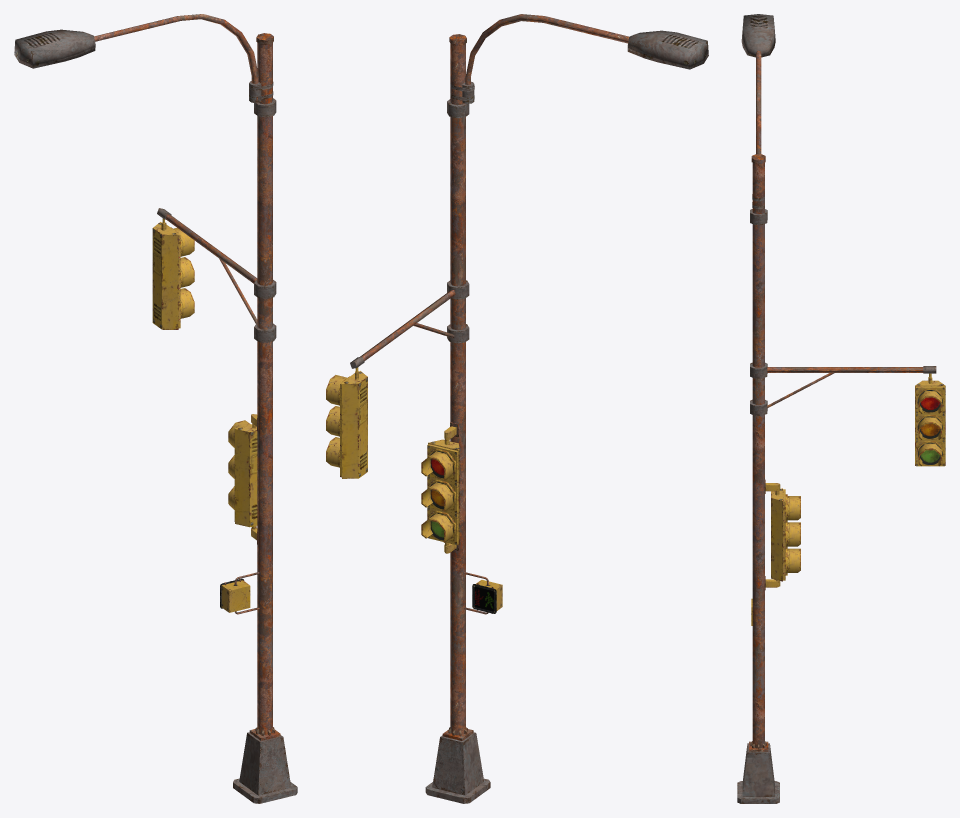
The model's file is Streetlight3_LOD1.fbx.
3 renders of one model, left to right at view 1: azimuth 30°, elevation 25°; view 2: azimuth 150°, elevation 25°; view 3: azimuth 270°, elevation 25°, orthographic. The views are drawn at different scales.
Parts seen in each view (by area): view 1: polySurface171; view 2: polySurface171; view 3: polySurface171.
Boxes of the visible parts, x1,y1,x2,y2 form: polySurface171: (14,14,297,803); polySurface171: (326,14,708,803); polySurface171: (737,14,945,803).
Size of the model in its own units: 3.44 by 9.82 by 2.72.
